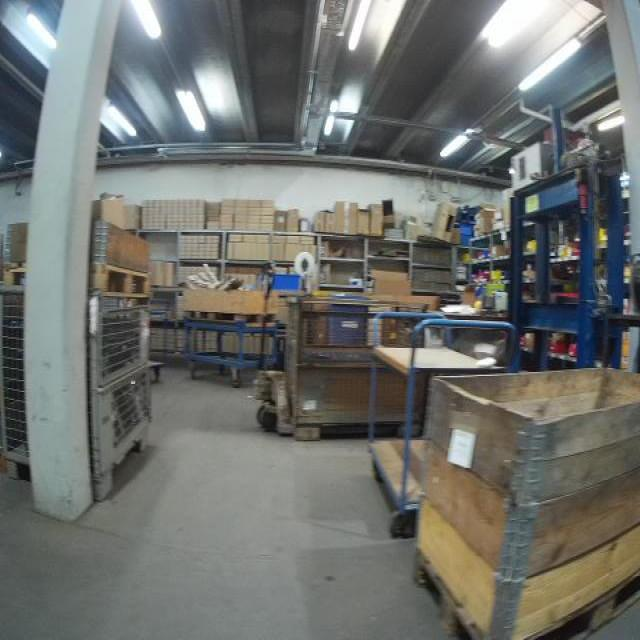pallet: (406, 547, 640, 640), (3, 259, 152, 303)
pallet_truck: (241, 256, 294, 434)
stillage: (279, 292, 439, 430), (87, 359, 158, 498), (2, 297, 39, 476), (86, 300, 154, 386)
